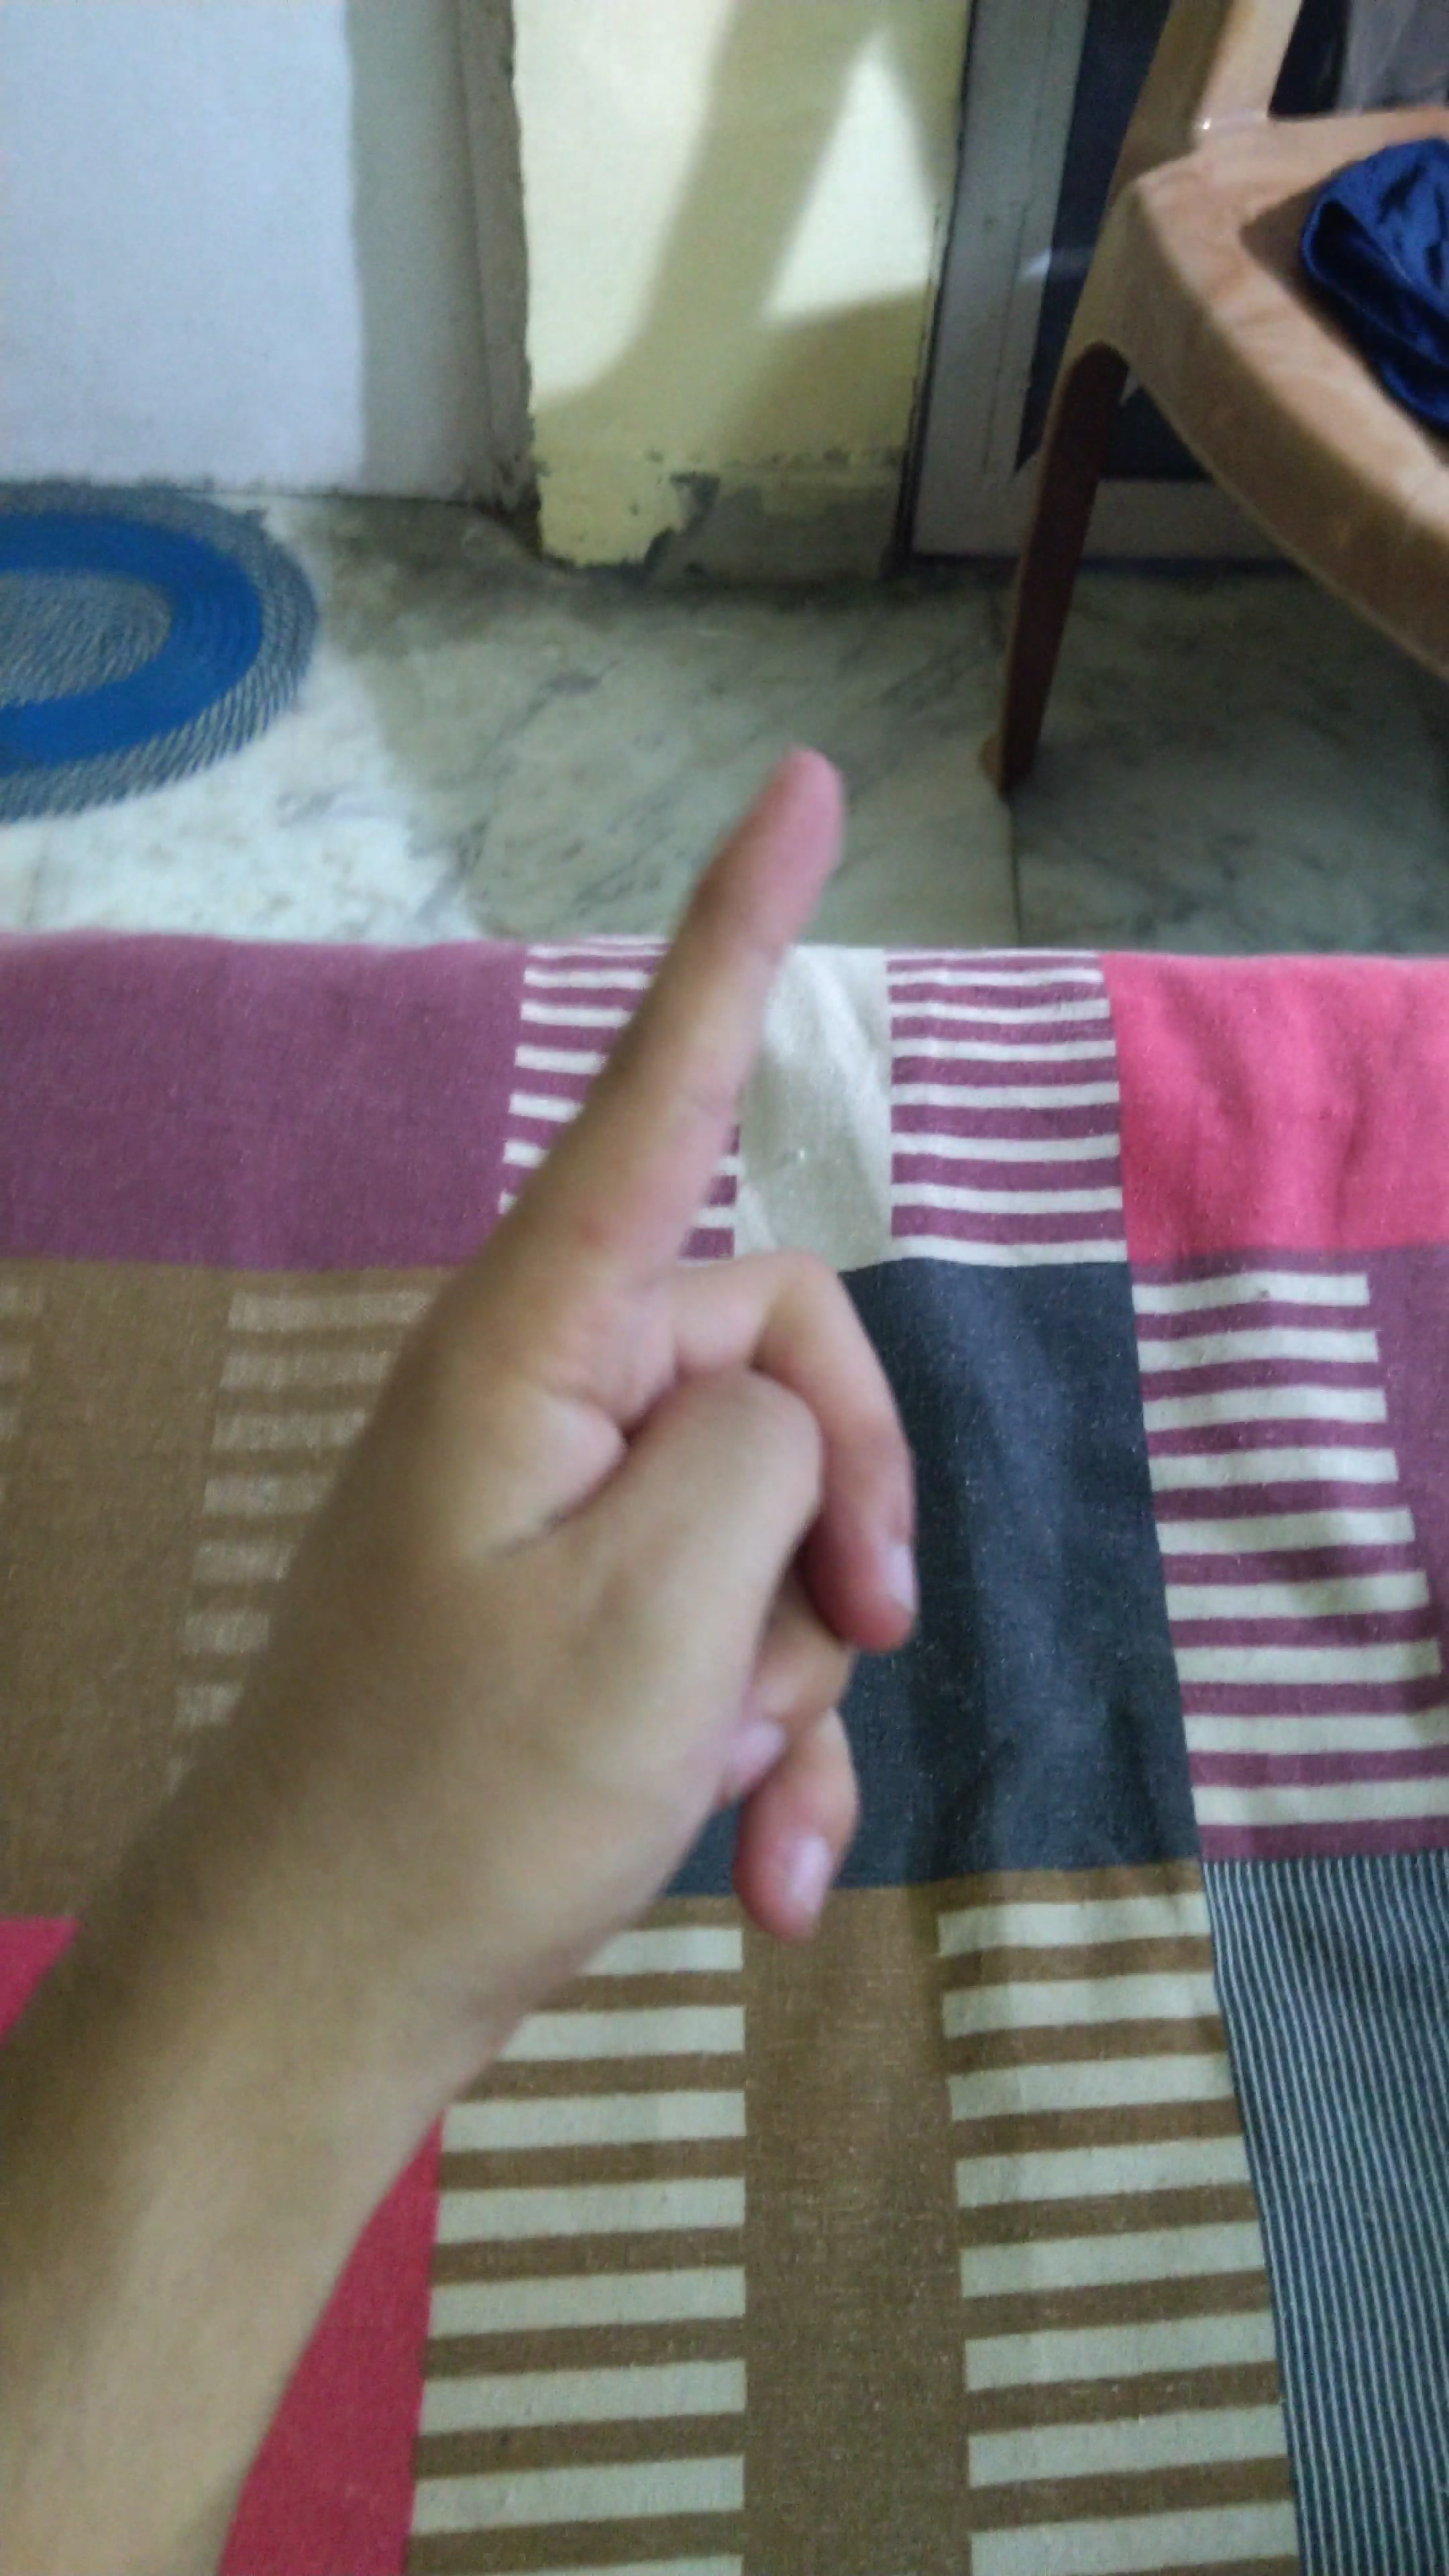hand: (258, 709, 1030, 2077)
